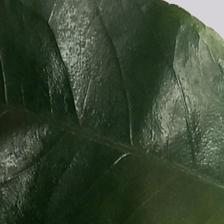healthy: (2, 24, 224, 224)
